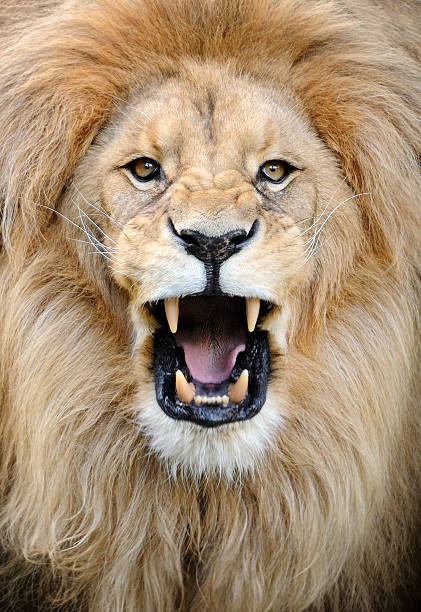lion: (2, 2, 421, 607)
